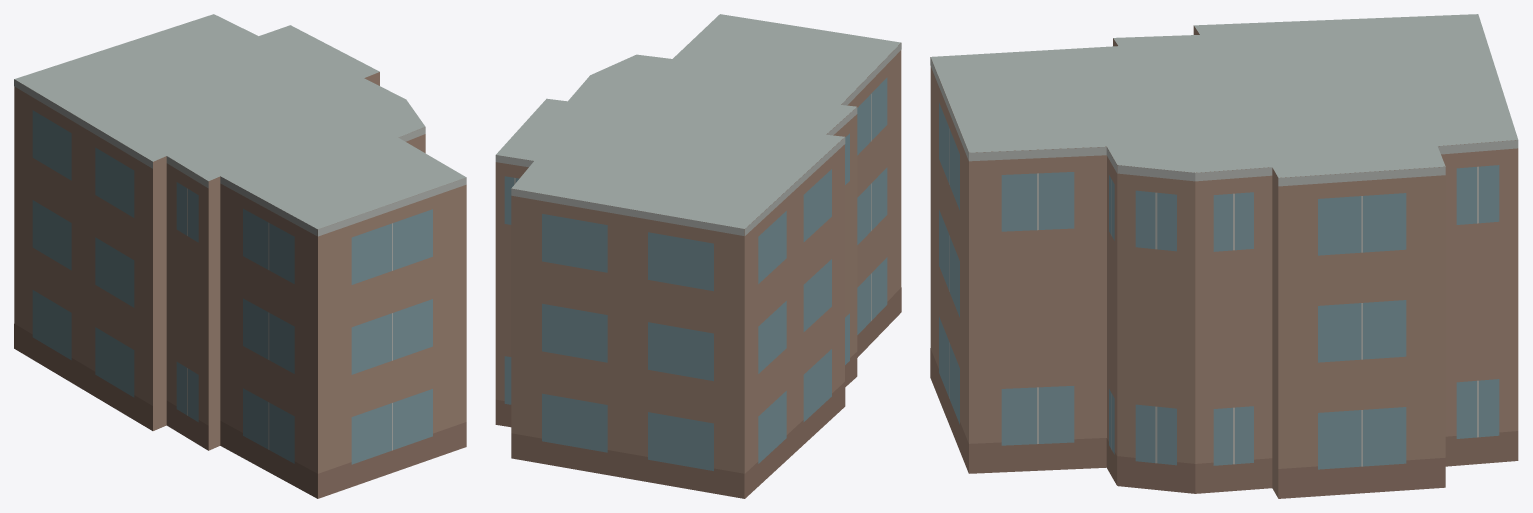
File: survey-upis-32917717.glb
3 views of the same model, side by side, from view 1: azimuth 30°, elevation 25°; view 2: azimuth 150°, elevation 25°; view 3: azimuth 270°, elevation 25° (orthographic). The views are drawn at different scales.
Visible parts, largest first — view 1: survey-upis-32917717.tmp; view 2: survey-upis-32917717.tmp; view 3: survey-upis-32917717.tmp.
Part boxes in pixels (x1,y1,x2,y2): survey-upis-32917717.tmp: (14, 14, 466, 498); survey-upis-32917717.tmp: (495, 14, 901, 498); survey-upis-32917717.tmp: (930, 14, 1518, 498).
Size of the model in its own units: 10.03 by 9.15 by 15.2.
